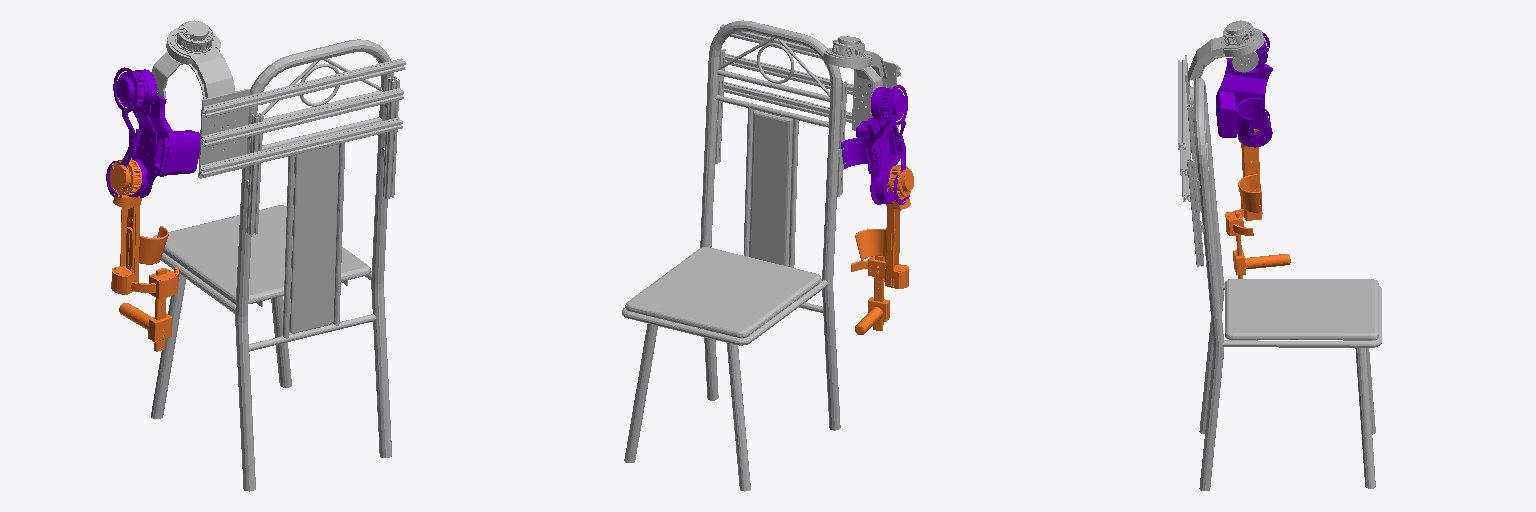
URDF robot description (gim_arm):
<?xml version="1.0"?>
<robot name="gim_arm">

  <!-- Dummy root link to satisfy KDL (added) -->
  <link name="base_footprint"/>

  <!-- Tạo mặt đất ảo -->
  <link name="world"/>

  <!-- Bắt vít gốc của cánh tay xuống mặt đất ảo -->
  <joint name="world_fixed" type="fixed">
    <parent link="world"/>
    <child link="base_footprint"/>
    <origin xyz="0 0 0" rpy="0 0 0"/>
  </joint>

  <!-- Fixed joint from dummy root to base_link (added) -->
  <joint name="base_footprint_to_base_link" type="fixed">
    <parent link="base_footprint"/>
    <child link="base_link"/>
    <origin xyz="0 0 0" rpy="0.083 0 0"/>
    <!-- <origin xyz="0 0 0" rpy="0.1 0 0"/> -->
  </joint>

  <link name="base_link">
    <inertial>
      <origin xyz="0.27344094303007 0.27938715952061 0.510149299908653" rpy="0 0 0" />
      <mass value="6.66855777151619" />
      <inertia
        ixx="0.292932757999248"
        ixy="2.42532565985983E-05"
        ixz="1.4908094022849E-05"
        iyy="0.157532051318604"
        iyz="-0.0223597784843357"
        izz="0.31549969202859" />
    </inertial>
    <visual>
      <origin xyz="0 0 0" rpy="0 0 0" />
      <geometry>
        <mesh filename="package://gim_arm_description/meshes/base_link.STL" />
      </geometry>
      <material name="base_link_color">
        <color rgba="0.752941176470588 0.752941176470588 0.752941176470588 1" />
      </material>
    </visual>
    <collision>
      <origin xyz="0 0 0" rpy="0 0 0" />
      <geometry>
        <mesh filename="package://gim_arm_description/meshes/base_link.STL" />
      </geometry>
    </collision>
  </link>

  <link name="shoulder_link">
    <inertial>
      <origin xyz="-0.166448794327975 0.0056887985806402 -0.0172848581490532" rpy="0 0 0" />
      <mass value="0.190732966677201" />
      <inertia
        ixx="0.000205948851297408"
        ixy="-2.38990127172075E-07"
        ixz="7.27163071554151E-05"
        iyy="0.000237074859368272"
        iyz="-8.24496296171646E-07"
        izz="0.000153162765676654" />
    </inertial>
    <visual>
      <origin xyz="0 0 0" rpy="0 0 0" />
      <geometry>
        <mesh filename="package://gim_arm_description/meshes/shoulder_link.STL" />
      </geometry>
      <material name="shoulder_link_color">
        <color rgba="0.752941176470588 0.752941176470588 0.752941176470588 1" />
      </material>
    </visual>
    <collision>
      <origin xyz="0 0 0" rpy="0 0 0" />
      <geometry>
        <mesh filename="package://gim_arm_description/meshes/shoulder_link.STL" />
      </geometry>
    </collision>
  </link>

  <!-- type đổi continuous -> revolute (bản export mặc định continuous, không giới
       hạn góc; khớp thật của bạn có giới hạn -> phải revolute mới đảm bảo
       lower/upper được các tool tôn trọng). axis lệch trục sạch (không phải
       "1 0 0"), nên xác nhận lại với CAD xem đây là lệch thật hay nhiễu mate. -->
  <joint name="base_joint" type="revolute">
    <origin xyz="0.031381 -0.48621 0.64846" rpy="1.4637 1.364 1.4753" />
        <!-- <origin xyz="0.031381 -0.48621 0.64846" rpy="1.4637 1.364/1.744 1.4753" /> -->
    <parent link="base_link" />
    <child link="shoulder_link" />
    <axis xyz="0.99932 -0.031099 -0.019999" />
    <!-- effort/velocity giờ suy ra từ đúng 3 con số phần cứng, quy về PHÍA
         KHỚP (trục ra) chứ không phải phía rotor:
           1) GIM6010-8: 5Nm định mức / 11Nm stall tại trục ra hộp số nội bộ
              8:1, tức phía rotor là 0.625Nm định mức.
           2) controller.config.vel_limit = 20 rev/s phía rotor
              = 20*2*pi = 125.66 rad/s.
           3) gear_ratio TỔNG mỗi khớp (khai trong khối ros2_control bên dưới,
              cùng nguồn mà gim_arm_system.cpp đọc): base 8, shoulder 64
              (8 nội bộ x 8 hộp ngoài), elbow 8.
         Suy ra: effort = 0.625 * N, tức base/elbow 5Nm và shoulder 40Nm;
         velocity = 125.66 / N, tức base/elbow 15.708 rad/s và shoulder 1.963.
         Dùng mô-men ĐỊNH MỨC (liên tục), không dùng stall 11Nm/88Nm: stall
         chỉ có trong thời gian ngắn và bị giới hạn nhiệt, không nên để
         planner coi là dùng được liên tục trên thiết bị đeo vào người.
         CẦN XÁC NHẬN: vel_limit=20 rev/s là giá trị cấu hình của driver, nên
         đọc lại bằng odrivetool (axis0.controller.config.vel_limit) trên từng
         driver thật; nếu khác thì sửa lại theo công thức 125.66/N. -->
    <limit lower="-0.7121" upper="1.0226" effort="5" velocity="15.708" />
  </joint>

  <link name="upper_arm_link">
    <inertial>
      <origin xyz="-0.020736655172626 0.102615712569984 -0.0918424005027231" rpy="0 0 0" />
      <mass value="1.15563310050408" />
      <inertia
        ixx="0.0046453378861501"
        ixy="-0.000106201197109939"
        ixz="-0.000256625754245197"
        iyy="0.00528562874184763"
        iyz="-0.00041294658184148"
        izz="0.0010644214679654" />
    </inertial>
    <visual>
      <origin xyz="0 0 0" rpy="0 0 0" />
      <geometry>
        <mesh filename="package://gim_arm_description/meshes/upper_arm_link.STL" />
      </geometry>
      <material name="upper_arm_link_color">
        <color rgba="0.545098039215686 0 0.870588235294118 1" />
      </material>
    </visual>
    <collision>
      <origin xyz="0 0 0" rpy="0 0 0" />
      <geometry>
        <mesh filename="package://gim_arm_description/meshes/upper_arm_link.STL" />
      </geometry>
    </collision>
  </link>

  <joint name="shoulder_joint" type="revolute">
    <origin xyz="-0.049966 0.001555 0.00099995" rpy="-1.375708549 0.010247217 1.396947503" />
        <!-- <origin xyz="-0.049966 0.001555 0.00099995" rpy="-1.3842 -0.058173 1.7475" /> -->
    <parent link="shoulder_link" />
    <child link="upper_arm_link" />
    <axis xyz="0 -1 0" />
    <!-- gear_ratio 64 (8 nội bộ x 8 hộp ngoài): mô-men gấp 8 lần base/elbow
         nhưng tốc độ tối đa chỉ còn 1/8. Số cũ (effort 5, velocity 12.5) sai
         cả 2 chiều: khai thiếu 8 lần mô-men thật, và khai thừa 6.4 lần tốc độ
         mà khớp này không bao giờ đạt được. Xem giải thích ở base_joint. -->
    <limit lower="-0.2366" upper="1.3435" effort="40" velocity="1.963" />
  </joint>

  <link name="lower_arm_link">
    <inertial>
      <origin xyz="0.185270162663334 0.00970989472364725 0.0463325988746627" rpy="0 0 0" />
      <mass value="0.846776609767109" />
      <inertia
        ixx="0.000639693628361318"
        ixy="2.29941438911678E-05"
        ixz="0.000253970645035867"
        iyy="0.00160796485183614"
        iyz="1.83629192835509E-05"
        izz="0.00182026575035514" />
    </inertial>
    <visual>
      <origin xyz="0 0 0" rpy="0 0 0" />
      <geometry>
        <mesh filename="package://gim_arm_description/meshes/lower_arm_link.STL" />
      </geometry>
      <material name="lower_arm_link_color">
        <color rgba="1 0.509803921568627 0.196078431372549 1" />
      </material>
    </visual>
    <collision>
      <origin xyz="0 0 0" rpy="0 0 0" />
      <geometry>
        <mesh filename="package://gim_arm_description/meshes/lower_arm_link.STL" />
      </geometry>
    </collision>
  </link>

  <joint name="elbow_joint" type="revolute">
    <origin xyz="-0.014232 0 -0.21358" rpy="1.570809721 1.469492654 -3.141575913" />
        <!-- <origin xyz="-0.014232 0 -0.21358" rpy="-1.5708 1.1931 0" /> -->
    <parent link="upper_arm_link" />
    <child link="lower_arm_link" />
    <axis xyz="0 0 -1" />
    <!-- gear_ratio 8 (chỉ hộp số nội bộ), giống base_joint. -->
    <limit lower="-0.2336" upper="1.7762" effort="5" velocity="15.708" />
  </joint>

<!-- param cho node_id + CAN interface + state velocity + gear_ratio + invert_direction -->
<ros2_control name="GimArmSystem" type="system">
  <hardware>
    <plugin>gim_arm_hardware/GimArmSystemHardware</plugin>
    <param name="can_interface">can0</param>
    <!-- Feedforward cho Set_Input_Pos (0x00C). Mặc định trong code là TẮT;
         bật ở đây để việc bật/tắt là một dòng NHÌN THẤY ĐƯỢC trong URDF, không
         phải hành vi ẩn trong plugin.
         - velocity_feedforward: điền Vel_FF = q̇_ref. Xoá sai số bám thường
           trực e = q̇/pos_gain của vòng P vị trí (nguồn trễ chính, KHÔNG mất đi
           khi đổi input_mode). Cần <command_interface name="velocity"/> bên
           dưới VÀ 'velocity' trong command_interfaces của controllers.yaml.
         - gravity_feedforward: điền Torque_FF = G(q_lệnh), tính bằng Pinocchio
           từ chính file URDF này.
         Đo trong mô phỏng (kinematics_test/compare_architectures.py), sai số
         bám đầu tay: 2.066mm -> 0.437mm (vel_ff) -> 0.266mm (thêm G(q)).
         TẮT NHANH khi thử trên tay thật: đổi true thành false, không cần build
         lại C++, chỉ cần colcon build gim_arm_description và chạy lại.
         Vẫn giữ nguyên control_mode=3 (vị trí): driver giữ vòng vị trí của nó,
         nên PC chết thì tay vẫn đứng, không rơi. -->
    <param name="velocity_feedforward">false</param>
    <param name="gravity_feedforward">true</param>

    <!-- ===== Chế độ MÔ-MEN (đường LQI) =====
         Chỉ bật khi controller claim interface 'effort'. Đường PID không đụng
         tới. torque_sign: quy ước dấu của FIRMWARE. Input_Torque dương làm
         encoder TĂNG (+1) hay GIẢM (-1). ĐO BẰNG cansend trước khi chạy vòng
         kín, xem RUNBOOK Phase 2. Đây KHÔNG phải invert_direction: cái đó bù
         chiều lắp motor và đã nằm trong directions_.
         effort_stale_cycles: forward_command_controller ghi lại giá trị cuối
         mãi mãi nếu lqi_node chết. 50 chu kỳ @100Hz = 0.5 s không đổi một bit
         nào thì plugin coi nguồn phát đã chết và tụt về bù trọng lực. -->
    <param name="torque_sign">-1</param>
    <param name="effort_stale_cycles">50</param>

    <!-- ===== BẢNG CHẾ ĐỘ =====
         Plugin viết sẵn 4 chế độ; chọn chế độ nào là do BỘ command_interface mà
         controller đang claim, KHÔNG phải do sửa C++:
           VI TRI  <- claim 'position' [+ 'velocity' làm Vel_FF]  (JTC — đang dùng)
           VAN TOC <- claim CHỈ 'velocity'                        (0x00D)
           MO-MEN  <- claim 'effort'                              (0x00E — LQI)
           MIT     <- claim 'position' + 'effort' cùng lúc        (0x008 impedance)
         Đổi chế độ = switch_controllers, không cần build lại plugin.
         Plugin in đúng bảng này ra log lúc khởi động, kèm trạng thái từng dòng.

         VAN TOC và MIT CHƯA ĐƯỢC KIỂM CHỨNG TRÊN TAY THẬT. Đọc kỹ trước khi bật:
         - VAN TOC: driver KHÔNG giữ vị trí. Nguồn phát chết -> watchdog
           (effort_stale_cycles) tụt lệnh về 0 rad/s sau 0.5 s. Trần vận tốc khai
           riêng từng khớp: <param name="max_velocity_joint_rad_s">, mặc định 1.0.
           Layout trường Torque_FF của frame 0x00D chưa đo lại bằng candump —
           kiểm tra trước khi dùng kèm gravity_feedforward.
         - MIT: mặc định TẮT. Bỏ chú thích dòng dưới để mở. Cần khai thêm
           <param name="mit_kp"> / <param name="mit_kd"> trong TỪNG <joint>
           (đơn vị phía TRỤC RA DRIVER: Nm/rad và Nm*s/rad); để 0 thì MIT thoái
           hoá thành mô-men thuần và driver không giữ tay nữa.
           Khi TẮT, claim đồng thời position+effort vẫn bị TỪ CHỐI y như trước. -->
    <!-- <param name="enable_mit_mode">true</param> -->
  </hardware>
  <joint name="base_joint">
    <command_interface name="position"/>
    <command_interface name="velocity"/>
    <!-- effort: đường vào của LQI. Thêm interface này KHÔNG ảnh hưởng đường
         PID vì JTC chỉ claim position+velocity, interface thừa nó không đụng. -->
    <command_interface name="effort"/>
    <state_interface name="position"/>
    <state_interface name="velocity"/>
    <param name="can_node_id">0</param>
    <!-- Trần cứng mô-men PHÍA KHỚP, riêng khớp này. Lớp bảo vệ cuối, độc lập
         với tau_scale bên lqi_node. cần 1.58 (ff đỉnh 0.44 + phản hồi 1.13) Nm;
         để 2.5 = ~1.5 lần dư địa. Trần URDF <limit effort> là 5 Nm. -->
    <param name="max_torque_joint_nm">2.5</param>
    <param name="invert_direction">true</param>       <!-- them -->
  </joint>
  <joint name="shoulder_joint">
    <command_interface name="position"/>
    <command_interface name="velocity"/>
    <!-- effort: đường vào của LQI. Thêm interface này KHÔNG ảnh hưởng đường
         PID vì JTC chỉ claim position+velocity, interface thừa nó không đụng. -->
    <command_interface name="effort"/>
    <state_interface name="position"/>
    <state_interface name="velocity"/>
    <param name="can_node_id">1</param>
    <!-- Trần cứng mô-men PHÍA KHỚP, riêng khớp này. Lớp bảo vệ cuối, độc lập
         với tau_scale bên lqi_node. cần 4.99 (ff đỉnh 3.64 + phản hồi 1.35) Nm;
         để 7.5 = ~1.5 lần dư địa. Trần URDF <limit effort> là 40 Nm. -->
    <param name="max_torque_joint_nm">7.5</param>
    <param name="gear_ratio">64.0</param>
  </joint>
  <joint name="elbow_joint">
    <command_interface name="position"/>
    <command_interface name="velocity"/>
    <!-- effort: đường vào của LQI. Thêm interface này KHÔNG ảnh hưởng đường
         PID vì JTC chỉ claim position+velocity, interface thừa nó không đụng. -->
    <command_interface name="effort"/>
    <state_interface name="position"/>
    <state_interface name="velocity"/>
    <param name="can_node_id">2</param>
    <!-- Trần cứng mô-men PHÍA KHỚP, riêng khớp này. Lớp bảo vệ cuối, độc lập
         với tau_scale bên lqi_node. cần 1.80 (ff đỉnh 1.51 + phản hồi 0.29) Nm;
         để 3.0 = ~1.5 lần dư địa. Trần URDF <limit effort> là 5 Nm. -->
    <param name="max_torque_joint_nm">3.0</param>
    <param name="invert_direction">true</param>
  </joint>
</ros2_control>

</robot>

--- What the picture shows (computed from the rendered views, not written in the file) ---
3 views of the same robot in one strip: view 1: azimuth 30°, elevation 25°; view 2: azimuth 150°, elevation 25°; view 3: azimuth 270°, elevation 25° (orthographic).
Robot: gim_arm — 6 links, 5 joints (3 revolute, 2 fixed); root link world; default pose: every joint at zero.
Links seen in each view (by area): view 1: base_link, upper_arm_link, lower_arm_link, shoulder_link; view 2: base_link, upper_arm_link, lower_arm_link; view 3: base_link, upper_arm_link, lower_arm_link.
Link boxes in pixels (<box>): base_link: <box>151,20,405,491</box>; upper_arm_link: <box>106,67,199,197</box>; lower_arm_link: <box>110,159,178,351</box>; shoulder_link: <box>151,51,182,103</box>; base_link: <box>622,20,900,491</box>; upper_arm_link: <box>841,85,909,204</box>; lower_arm_link: <box>851,165,913,334</box>; base_link: <box>1178,20,1381,490</box>; upper_arm_link: <box>1216,32,1272,147</box>; lower_arm_link: <box>1225,129,1290,278</box>.
Bounding box of the posed robot: 0.6488 × 0.5307 × 1.13 m (x, y, z).
Meshes: 4 distinct files referenced, 4 mesh visuals loaded (4 binary STL).
